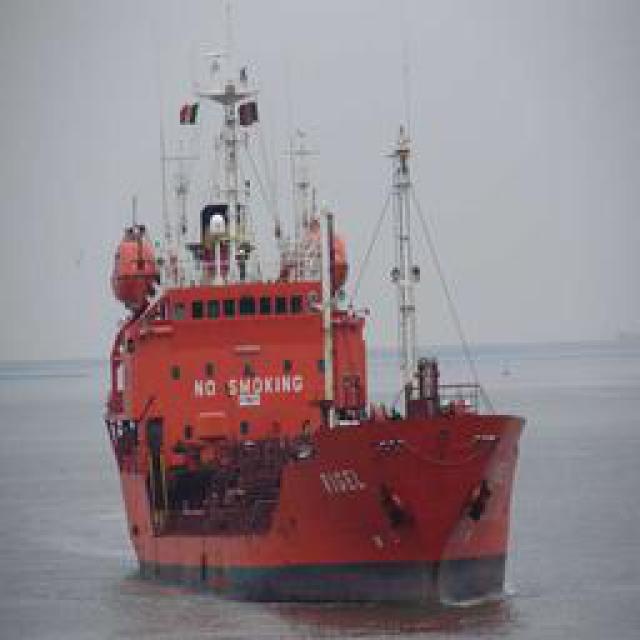Ship: (103, 43, 531, 608)
